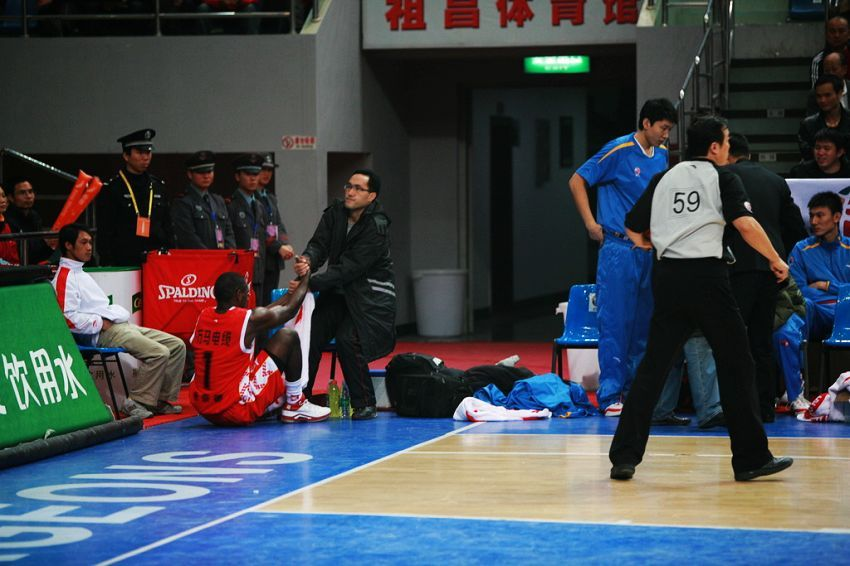10+: (2, 5, 849, 451)
down: (186, 256, 330, 425), (381, 340, 555, 423)
